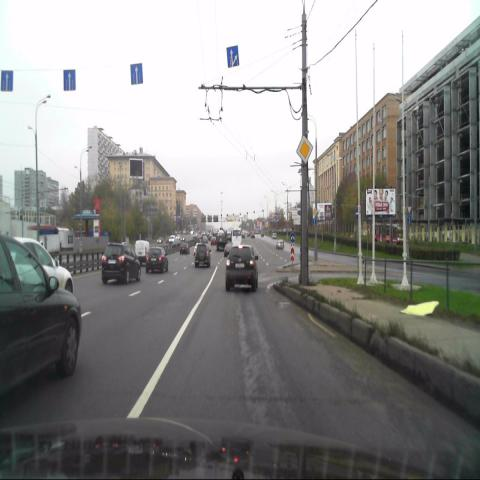5_15_2: (64, 70, 76, 92)
